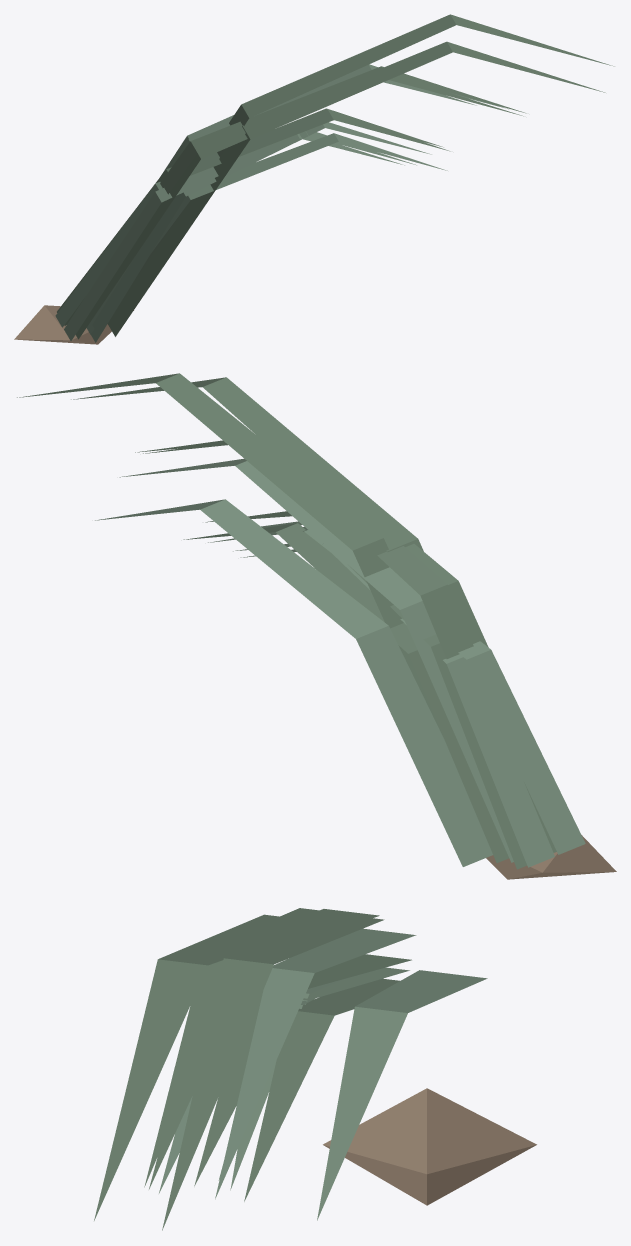
File: shui.kucao__winter.glb
The picture shows the model from 3 angles, top to bottom: view 1: azimuth 30°, elevation 25°; view 2: azimuth 150°, elevation 25°; view 3: azimuth 270°, elevation 25°; orthographic projection. The views are drawn at different scales.
Parts seen in each view (by area): view 1: shui.kucao__winter; view 2: shui.kucao__winter; view 3: shui.kucao__winter.
Part boxes in pixels (x1=…): shui.kucao__winter: x1=14, y1=14, x2=614, y2=344; shui.kucao__winter: x1=17, y1=373, x2=616, y2=879; shui.kucao__winter: x1=94, y1=908, x2=536, y2=1230.
Bounding box in the file's own units: 1.33 × 0.6411 × 0.4758.
